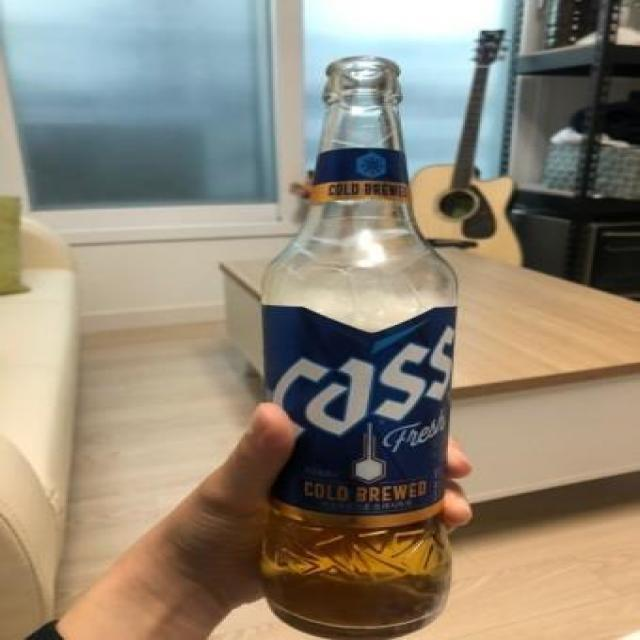beer-bottle: (250, 51, 472, 640)
